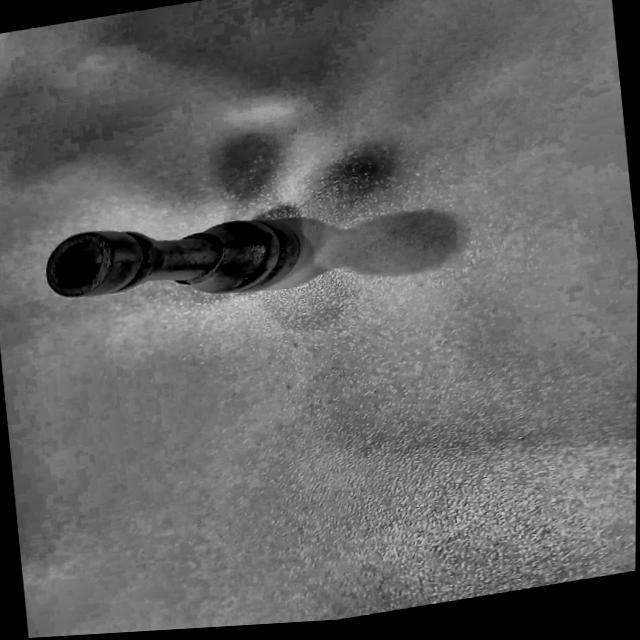black-rook: (3, 180, 326, 342)
